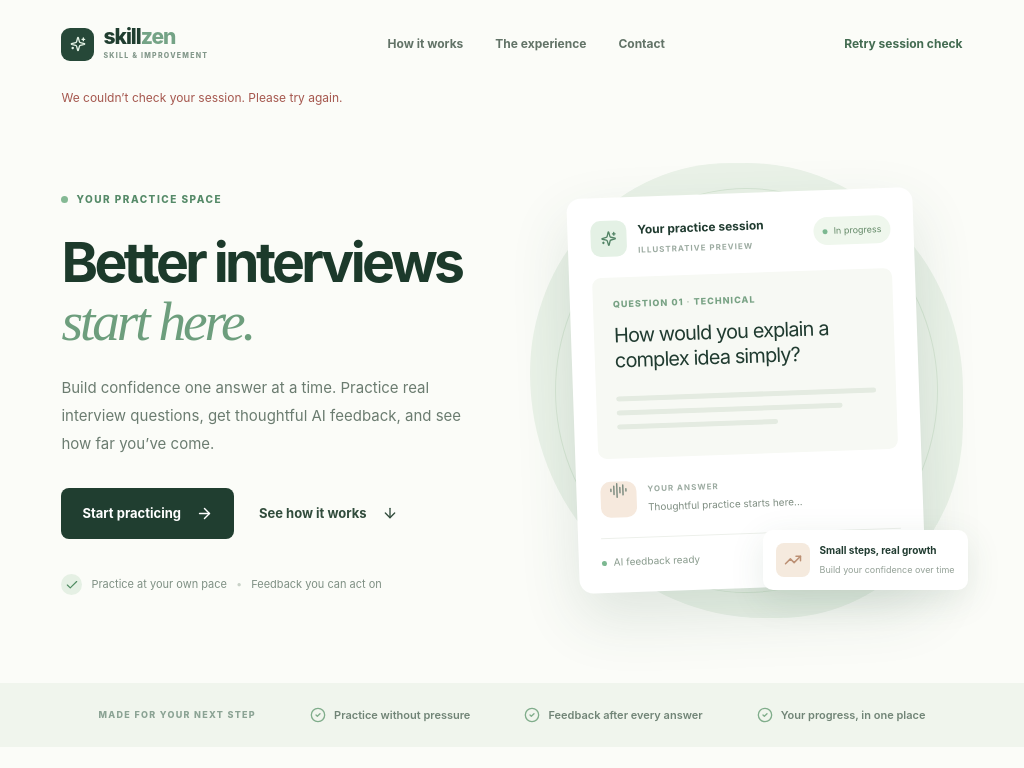
it: landing page session › does not mistake a network error for logout and allows retry
Expected: the message shows "couldn’t check your session", [61,90,342,105]
Click the button "Retry session check".
click(903, 44)  # box [844,25,963,63]
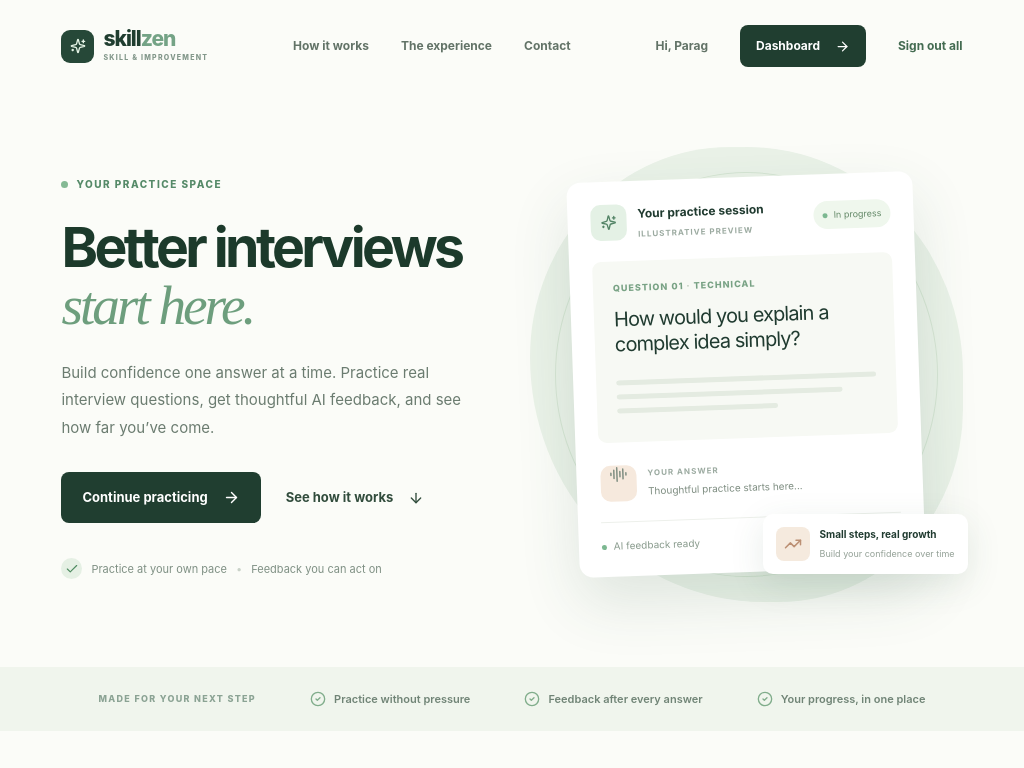
Expected: the text "Hi, Parag" is shown, [655,37,708,55]
